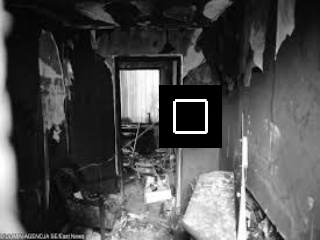square: (159, 85, 221, 147)
